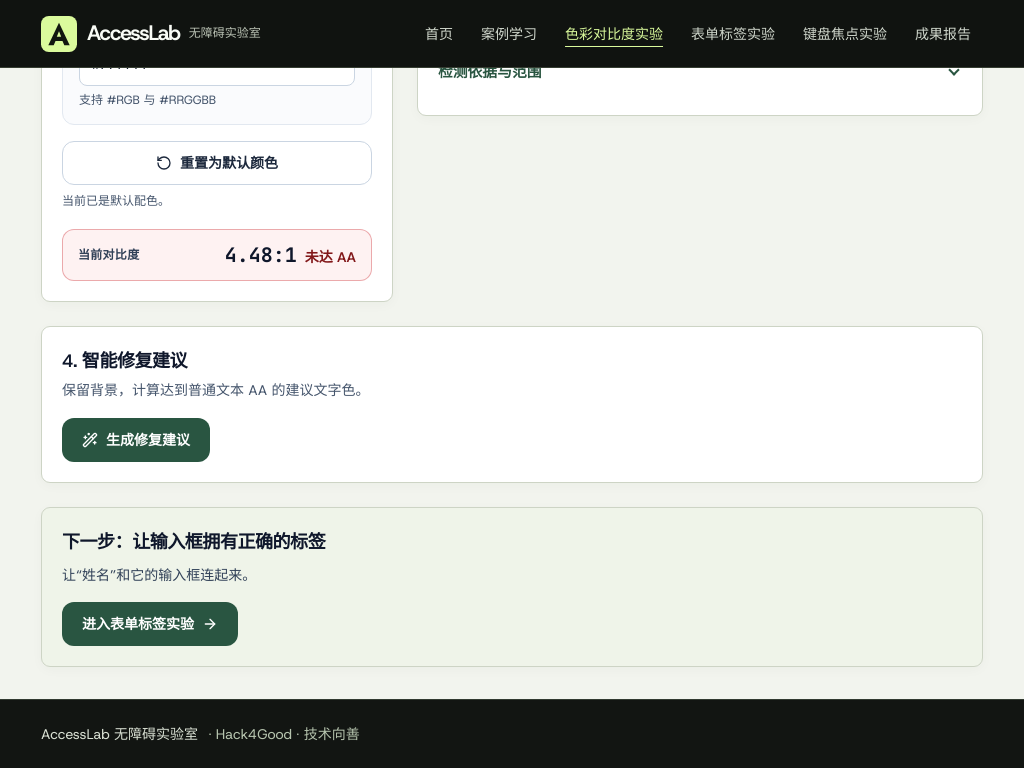
it: Day 6 · 任务 C 反馈位置与代码块 › 应用修复后的提示就在操作区里，不是浮在页面底部
(page scrolled)
Click the button "生成修复建议": (136, 440) [62,418,210,462]
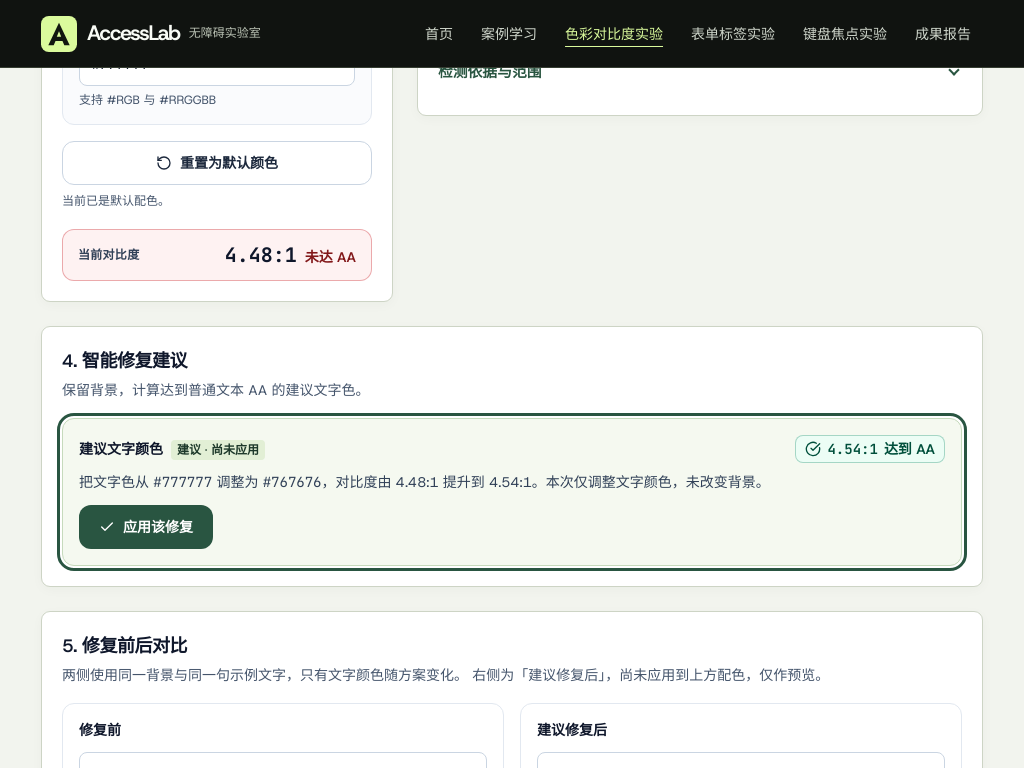
Result: the button "应用该修复" is shown
Click the button "应用该修复": (146, 528) [79,506,213,550]
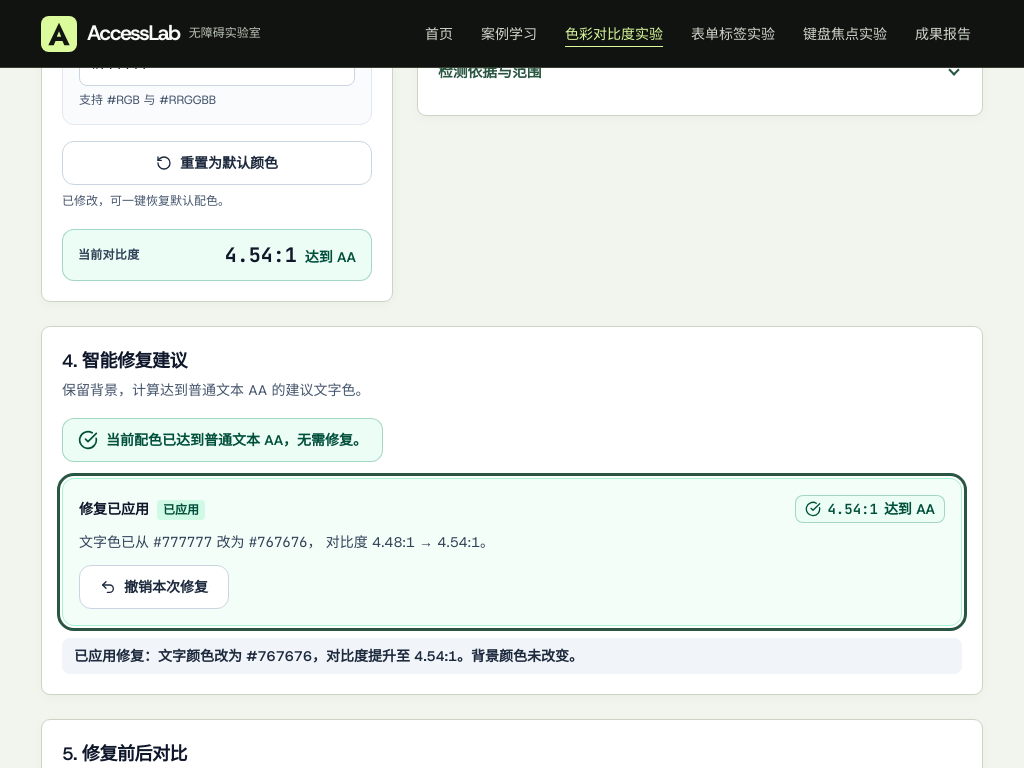
Expected: the heading "4. 智能修复建议" is shown, [62,349,187,373]
Result: the message "已应用修复：文字颜色改为 #767676，对比度提升至 4.54:1。背景颜色未改变。" is shown at [62,638,962,674]
